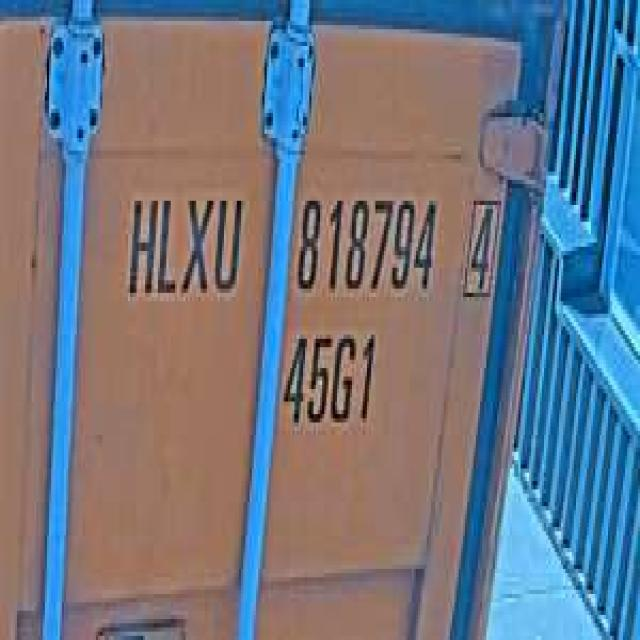dv: (461, 184, 503, 305)
owner: (122, 176, 245, 305)
serial: (290, 180, 442, 305)
size: (279, 318, 380, 435)
